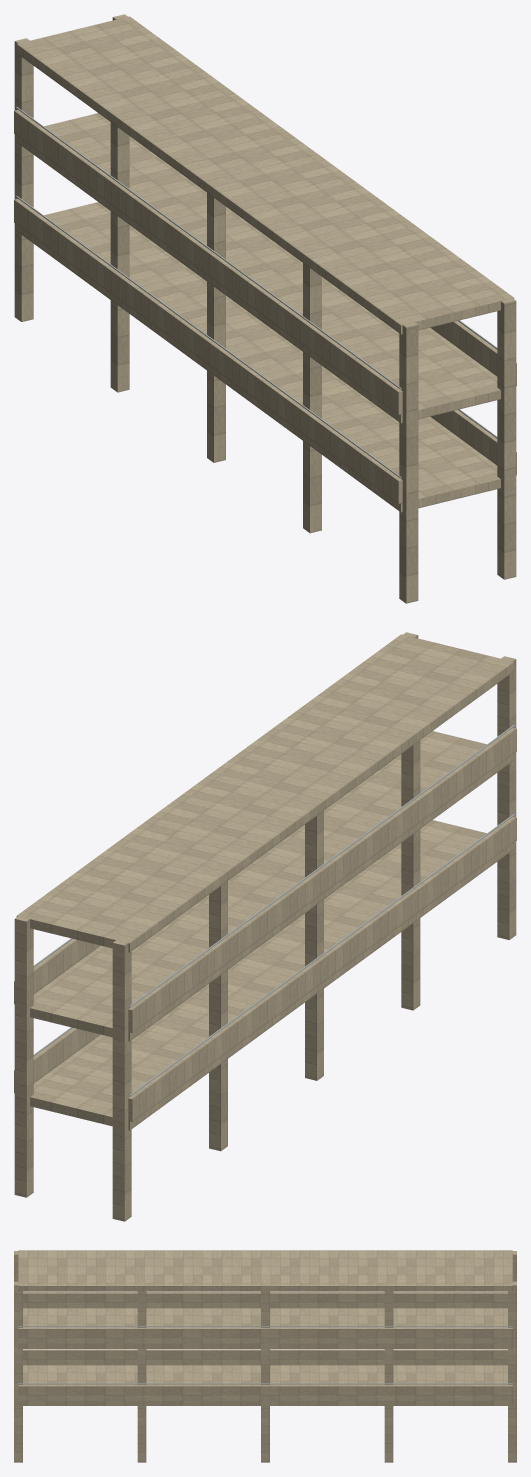
The picture shows the model from 3 angles, top to bottom: view 1: azimuth 30°, elevation 25°; view 2: azimuth 150°, elevation 25°; view 3: azimuth 270°, elevation 25°; orthographic projection. The views are drawn at different scales.
Parts seen in each view (by area): view 1: academicLinkWest__structure, academicLinkWest__rail; view 2: academicLinkWest__structure, academicLinkWest__rail; view 3: academicLinkWest__structure, academicLinkWest__rail.
Boxes of the visible parts, x1,y1,x2,y2 form: academicLinkWest__structure: (14,14,516,603); academicLinkWest__rail: (14,107,516,503); academicLinkWest__structure: (14,632,516,1221); academicLinkWest__rail: (14,725,516,1121); academicLinkWest__structure: (14,1250,516,1462); academicLinkWest__rail: (18,1292,512,1400).
Bounding box in the file's own units: 5.43 × 12.1 × 31.11.
2 materials, 1 textured.
